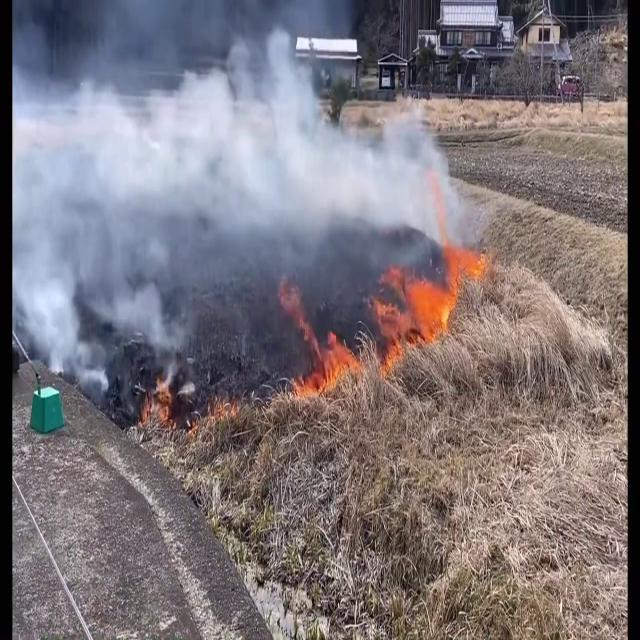Fire: (382, 230, 489, 358), (293, 332, 365, 403)
Smoke: (13, 0, 456, 391)
